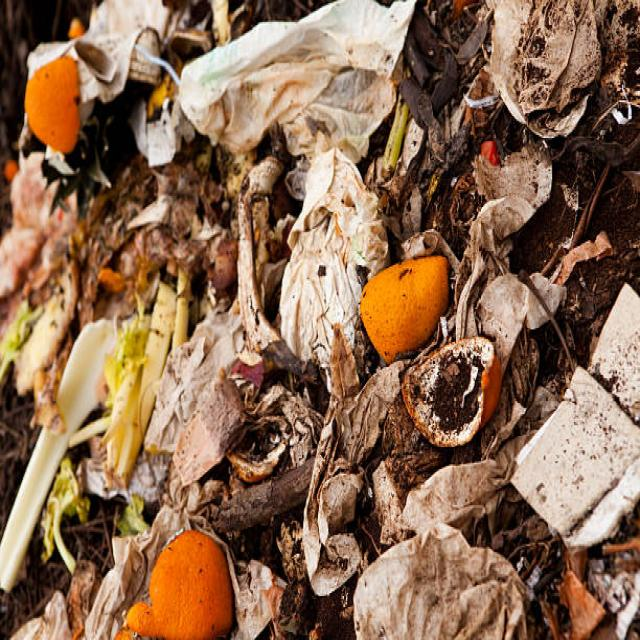paper: (102, 264, 170, 493), (142, 525, 261, 640), (401, 347, 505, 462), (360, 254, 447, 352), (19, 61, 100, 152)
